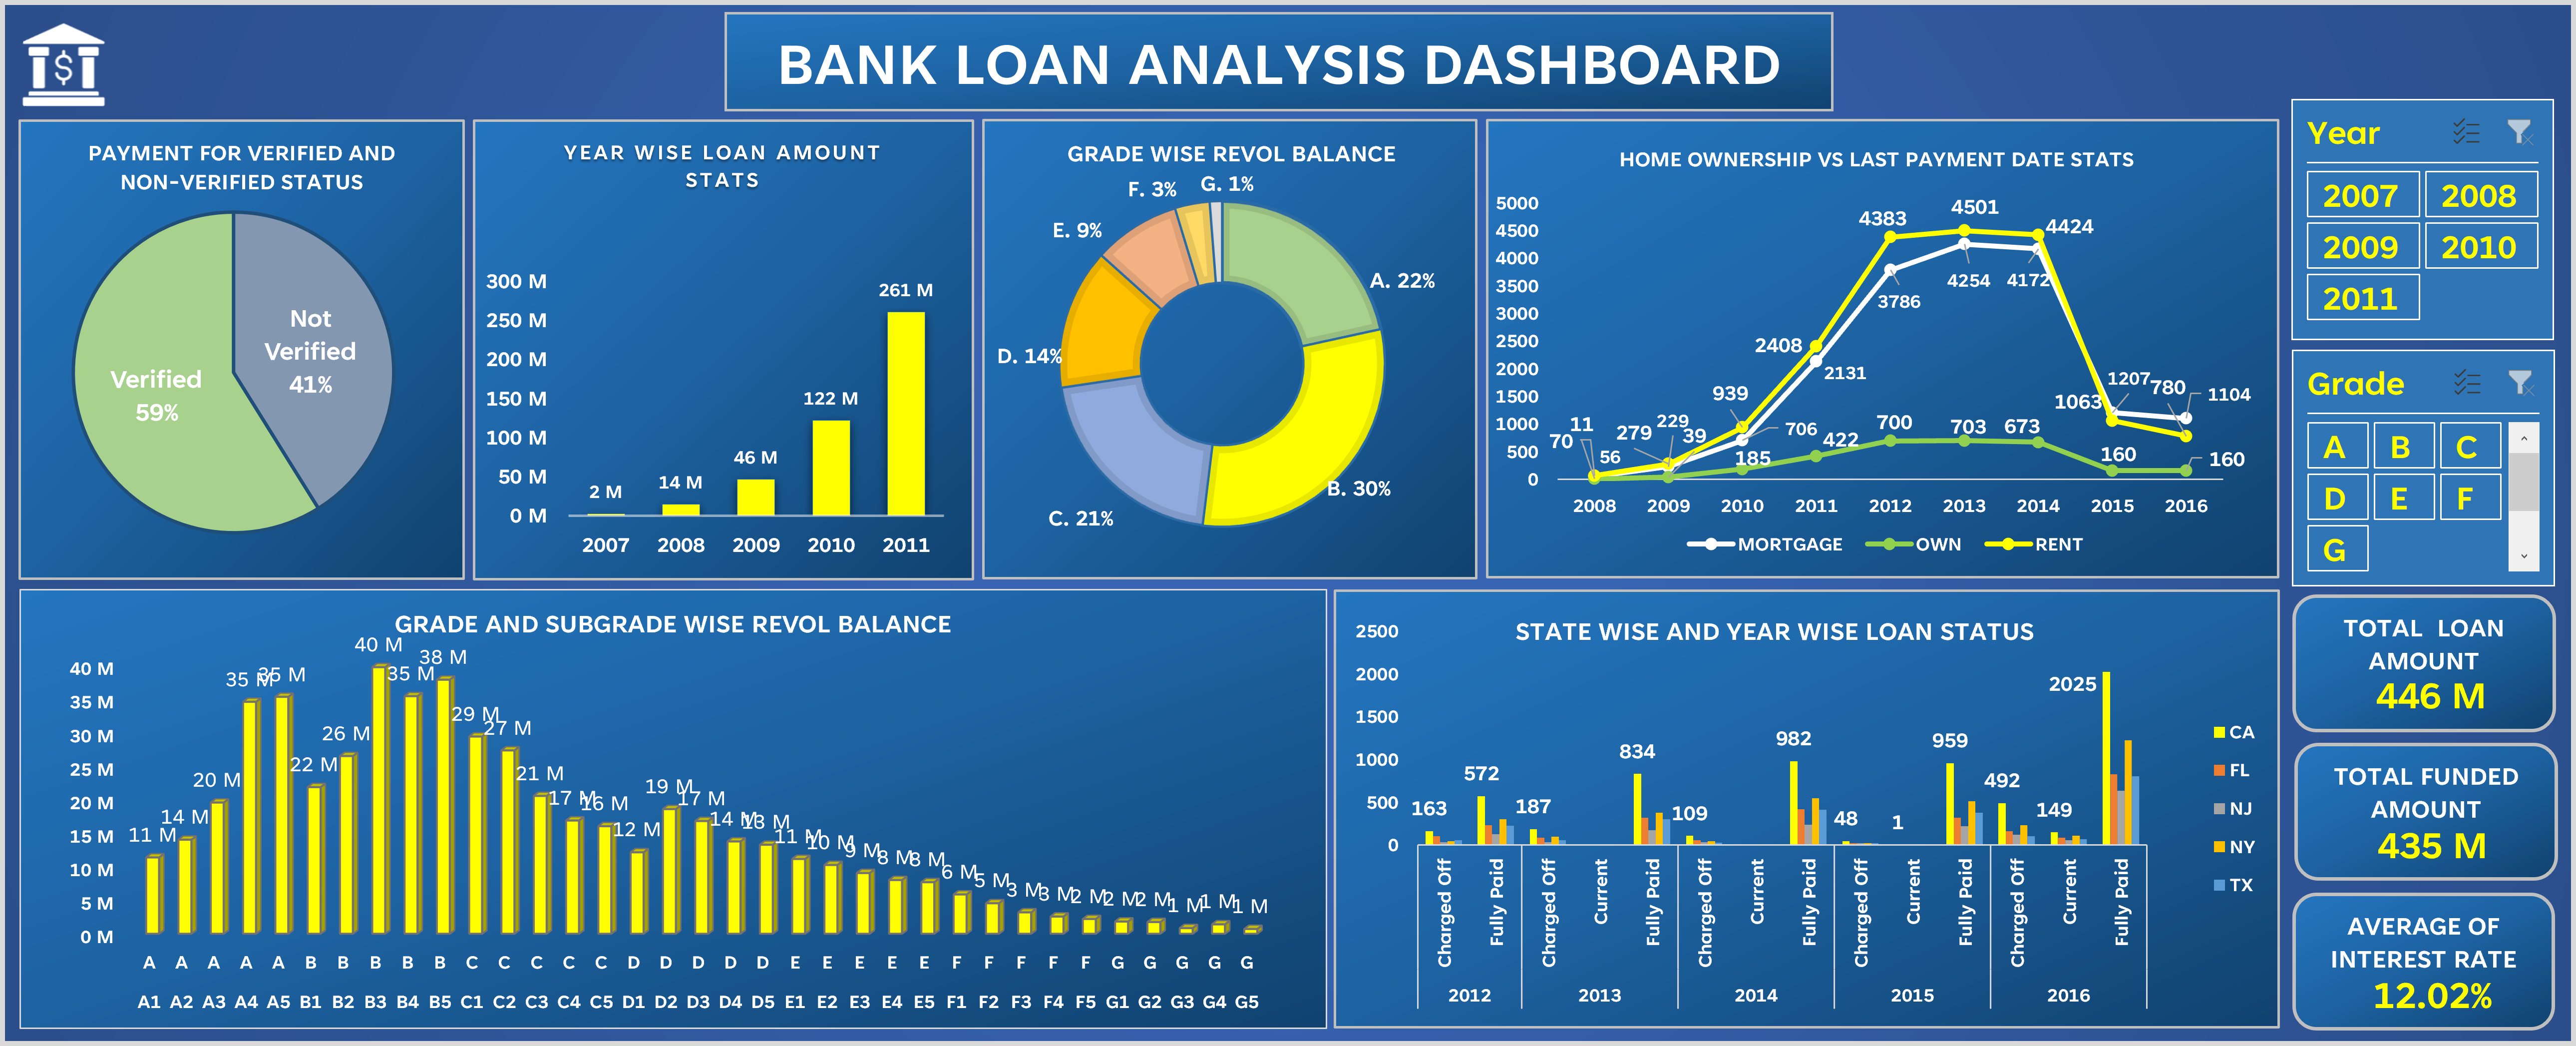

Layout of this report page (visuals, bound fields, positions):
{"tool":"tableau","page":{"name":"Dashboard 3","canvas":[1000,1000],"units":"permille","ordinal":0},"visuals":[{"type":"image","param":"Image/bank (3)ik.png","box":[220.2,7.2,50,94.2]},{"type":"text","box":[268.7,14.5,484.3,83.3]},{"type":"worksheet","title":"Avg","mark":"Automatic","box":[164.3,104.5,181.2,126.9]},{"type":"worksheet","title":"loan","mark":"Automatic","box":[6.2,104.9,154.5,126.6]},{"type":"worksheet","title":"Grade Filter","mark":"Automatic","rows":["Calculation_1132373831686709253"],"cols":["grade"],"box":[348.9,105.1,287.4,99.6]},{"type":"worksheet","title":"KPI 04","mark":"Automatic","box":[639.8,105.1,352.4,882.2]},{"type":"worksheet","title":"Year Filter","mark":"Bar","rows":["Calculation_1132373831687622663"],"cols":["issue_d"],"box":[349.8,206.5,285.4,96]},{"type":"worksheet","title":"recoveries","mark":"Automatic","box":[6.2,238.8,154.5,117.5]},{"type":"worksheet","title":"funded","mark":"Automatic","box":[164.5,239.1,181.8,117.8]},{"type":"worksheet","title":"KPI 03","mark":"Pie","box":[350.7,308,285.7,279]},{"type":"worksheet","title":"KPI 02","mark":"Automatic","rows":["revol_bal"],"cols":["sub_grade"],"box":[6.9,365.9,339.4,300.7]},{"type":"worksheet","title":"KPI 05","mark":"Bar","rows":["home_ownership"],"cols":["last_pymnt_d"],"box":[349.8,594.2,286.6,393.1]},{"type":"worksheet","title":"KPI 01","mark":"Bar","rows":["issue_d"],"cols":["loan_amnt"],"box":[6.1,673.9,340.3,313.4]}]}

Visuals, with their boxes on the dashboard's canvas, which has no fixed pixel size, in thousandths of its width and height (x1, y1, x2, y2). These are canvas units, not pixel positions in the 2576x1046 screenshot, which may show the page scaled, cropped or inside an application window:
image: (x1=220, y1=7, x2=270, y2=101)
text: (x1=269, y1=14, x2=753, y2=98)
"Avg" worksheet: (x1=164, y1=104, x2=346, y2=231)
"loan" worksheet: (x1=6, y1=105, x2=161, y2=232)
"Grade Filter" worksheet: (x1=349, y1=105, x2=636, y2=205)
"KPI 04" worksheet: (x1=640, y1=105, x2=992, y2=987)
"Year Filter" worksheet (Bar marks): (x1=350, y1=206, x2=635, y2=302)
"recoveries" worksheet: (x1=6, y1=239, x2=161, y2=356)
"funded" worksheet: (x1=164, y1=239, x2=346, y2=357)
"KPI 03" worksheet (Pie marks): (x1=351, y1=308, x2=636, y2=587)
"KPI 02" worksheet: (x1=7, y1=366, x2=346, y2=667)
"KPI 05" worksheet (Bar marks): (x1=350, y1=594, x2=636, y2=987)
"KPI 01" worksheet (Bar marks): (x1=6, y1=674, x2=346, y2=987)
